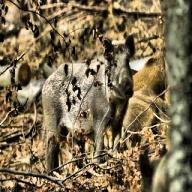boar: (40, 34, 138, 176)
